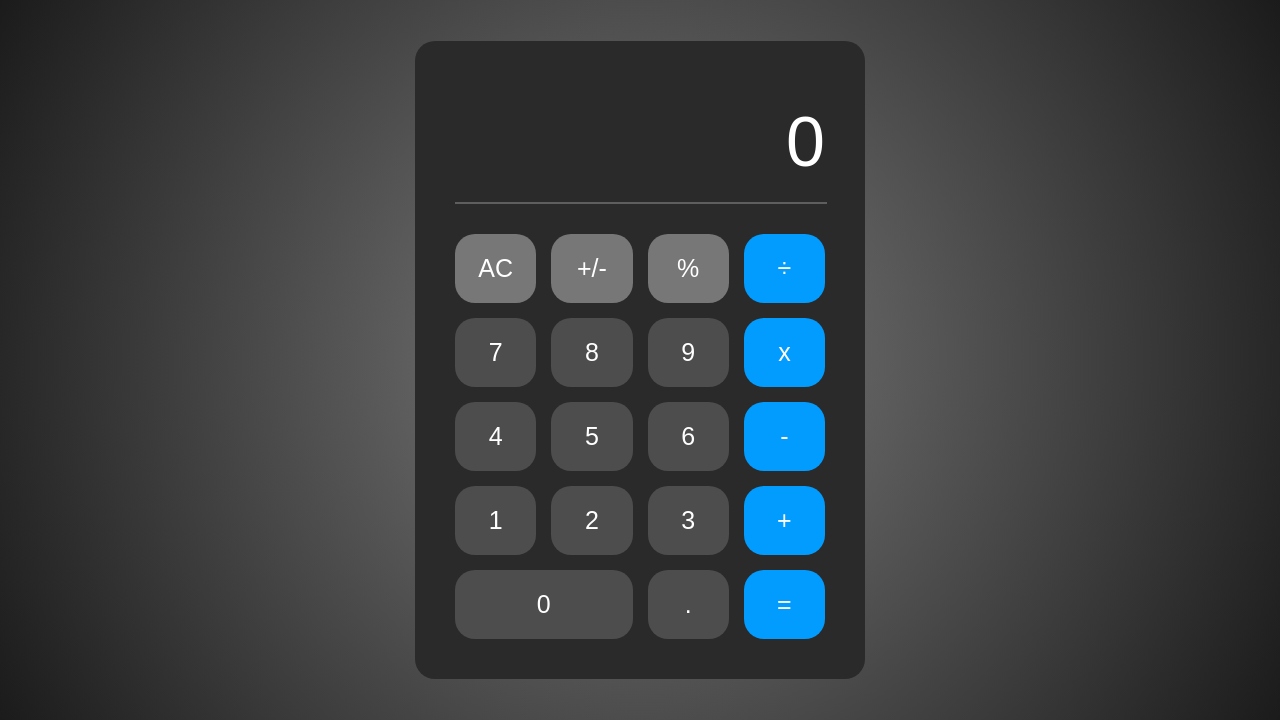
Test: Componente calculadora › Cambiar signo.
Note: simular acciones
Step 1. Click the button "3" → (688, 520), box top-left (648, 486), bottom-right (729, 555)
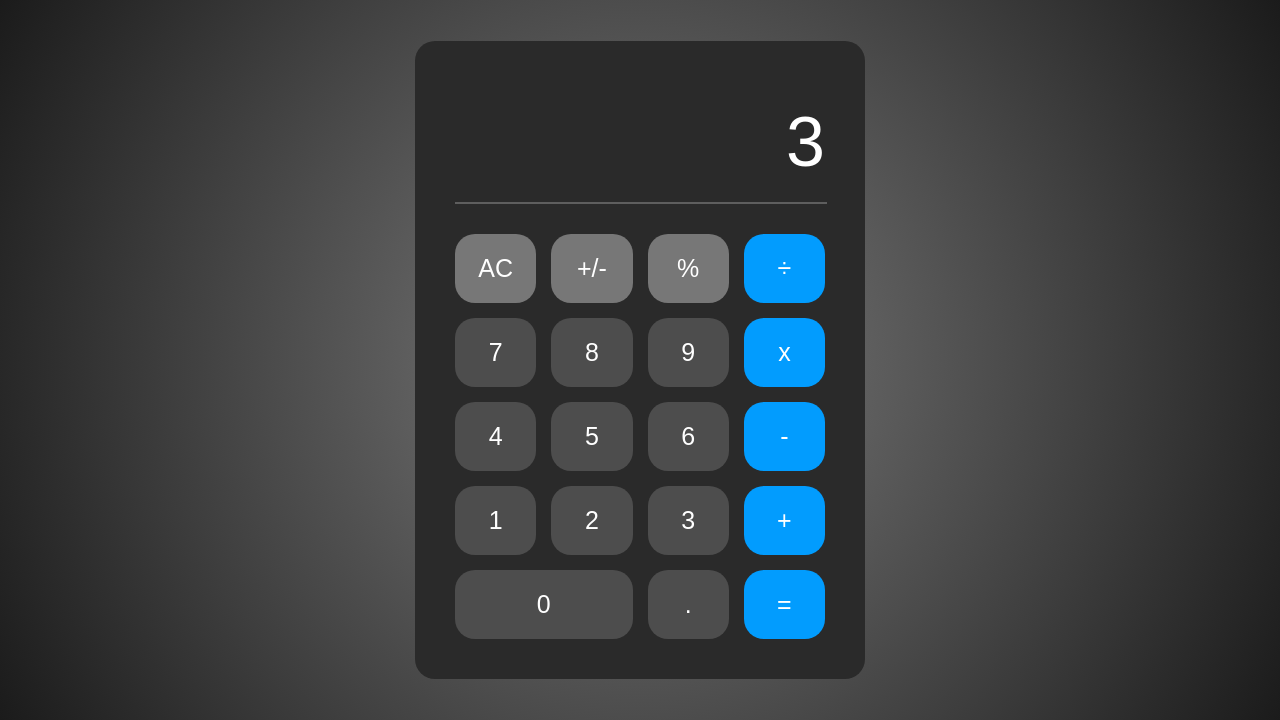
Expected: the text with test id "display" reads "3", top-left (786, 103), bottom-right (825, 181)
Step 2. Click the button "+/-" → (592, 268), box top-left (551, 234), bottom-right (633, 303)
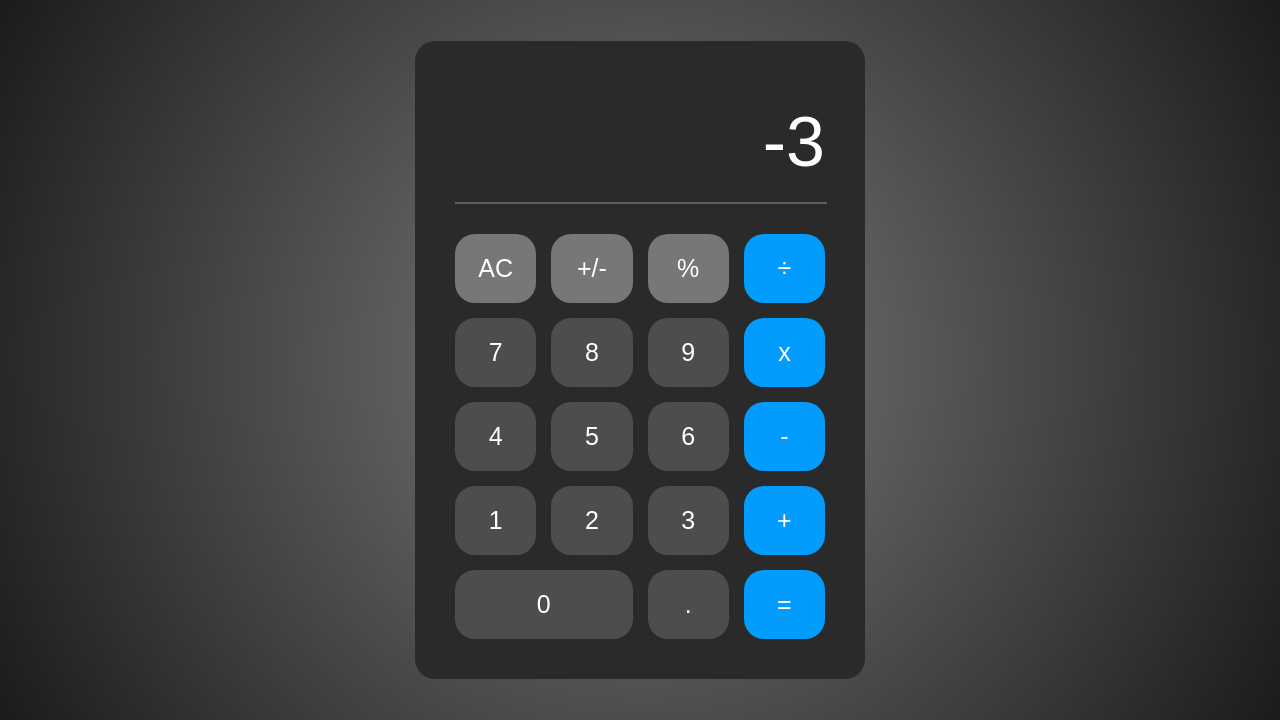
Expected: the text with test id "display" reads "-3", top-left (763, 103), bottom-right (825, 181)
